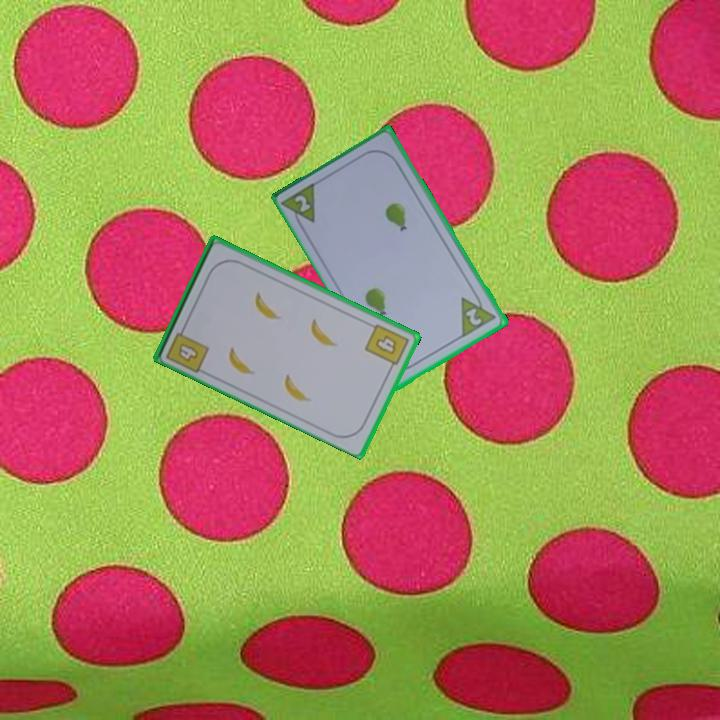2p: (279, 178, 320, 233), (463, 304, 485, 329)
4b: (361, 320, 412, 373), (163, 321, 212, 375)
